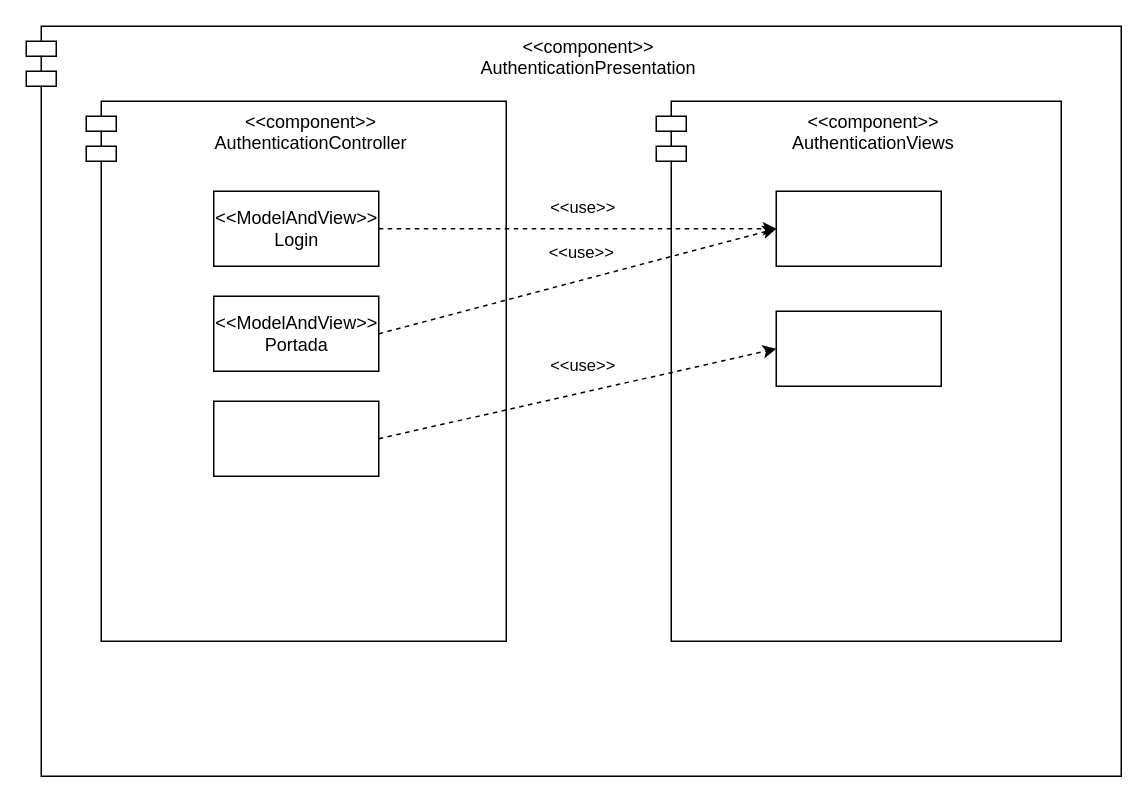
The diagram is 1148 pixels wide and 803 high, and some of its shapes have lost their labels. Here are the shapes that lost their labels. From the top down, the box of each, then its label:
(775, 190, 941, 266): <<view>> <<html>> Login
(775, 310, 941, 386): <<view>> <<html>> Registro
(212, 400, 379, 476): <<ModelAndView>> Registro
